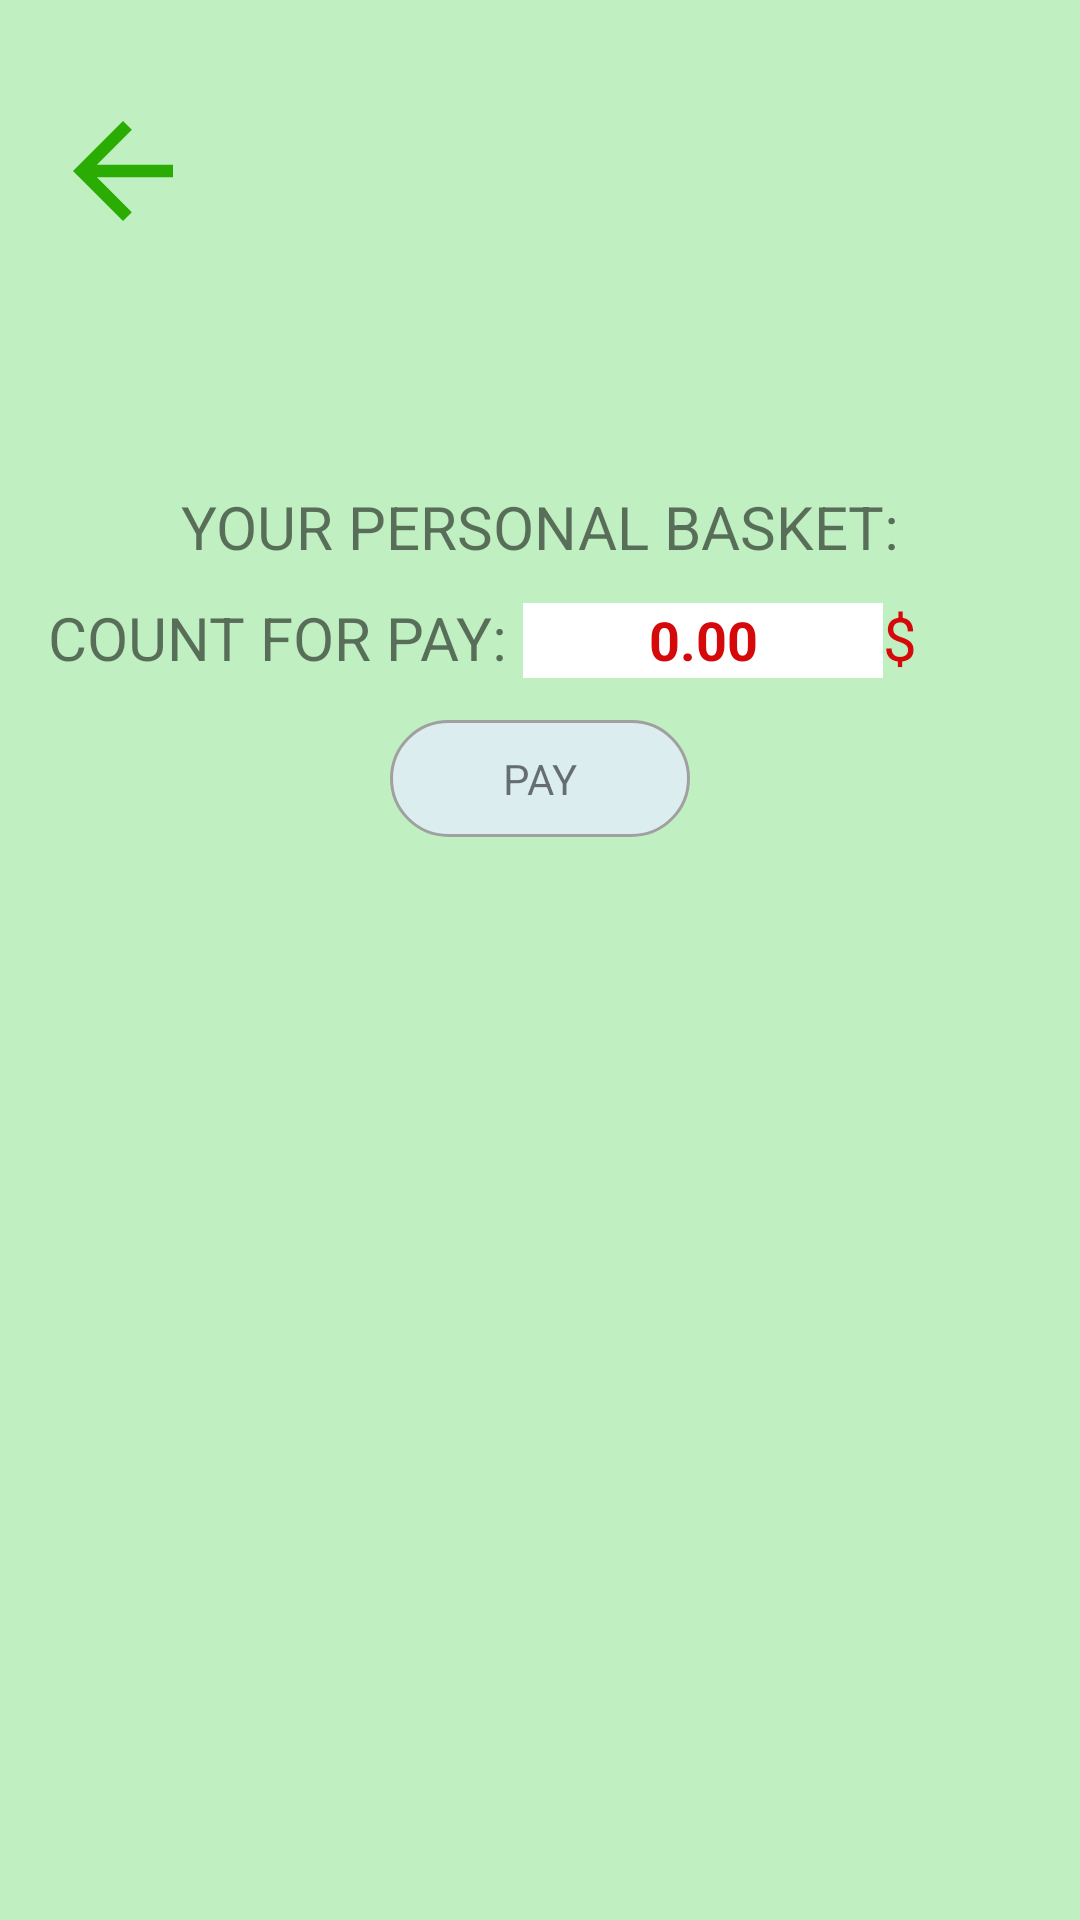

Icon click points for this 1080×1920 phone screenshot, format (x,y):
arrow back: (123,171)
